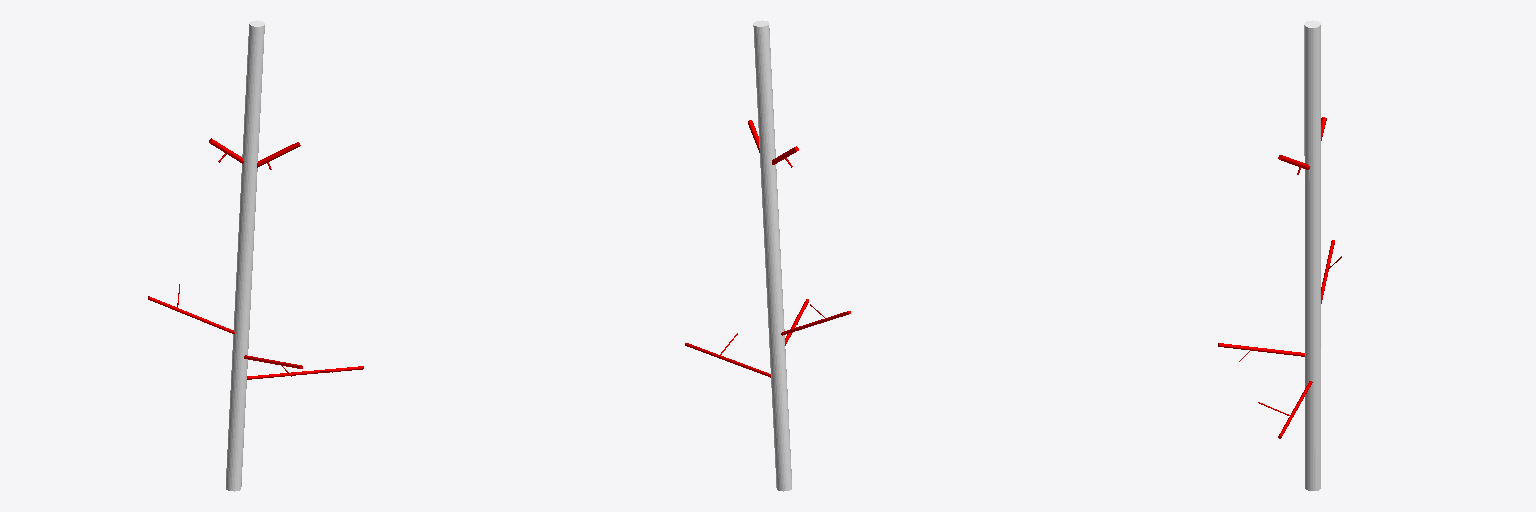
URDF robot description (tree_103.urdf):
<?xml version='1.0' encoding='UTF-8'?>
<robot name="tree_103.urdf">
  <link name="branch_0">
    <inertial>
      <origin xyz="0.0 0.0 0.0" rpy="0.0 -0.0 0.0"/>
      <mass value="0.1"/>
      <inertia ixx="0.001" ixy="0.0" ixz="0.0" iyy="0.001" iyz="0.0" izz="0.001"/>
    </inertial>
    <visual name="branch_0_visual">
      <geometry>
        <cylinder radius="0.14001834520138762" length="8.907185700105003"/>
      </geometry>
      <material name="branch_material"/>
      <origin xyz="0.23739383873505226 -0.003513189515895244 4.447259953821996" rpy="0.0 0.0533350129177233 -0.01479791174688418"/>
    </visual>
    <collision name="branch_0_collision">
      <geometry>
        <cylinder radius="0.14001834520138762" length="8.907185700105003"/>
      </geometry>
      <origin xyz="0.23739383873505226 -0.003513189515895244 4.447259953821996" rpy="0.0 0.0533350129177233 -0.01479791174688418"/>
    </collision>
  </link>
  <link name="branch_1">
    <inertial>
      <origin xyz="0.0 0.0 0.0" rpy="0.0 -0.0 0.0"/>
      <mass value="0.1"/>
      <inertia ixx="0.001" ixy="0.0" ixz="0.0" iyy="0.001" iyz="0.0" izz="0.001"/>
    </inertial>
    <visual name="branch_1_visual">
      <geometry>
        <cylinder radius="0.03007751160161051" length="2.2813024183523956"/>
      </geometry>
      <material name="semantic_material"/>
      <origin xyz="0.0 0.0 0.0" rpy="0.0 -0.0 0.0"/>
    </visual>
    <collision name="branch_1_collision">
      <geometry>
        <cylinder radius="0.03007751160161051" length="2.2813024183523956"/>
      </geometry>
      <origin xyz="0.0 0.0 0.0" rpy="0.0 -0.0 0.0"/>
    </collision>
  </link>
  <link name="branch_2">
    <inertial>
      <origin xyz="0.0 0.0 0.0" rpy="0.0 -0.0 0.0"/>
      <mass value="0.1"/>
      <inertia ixx="0.001" ixy="0.0" ixz="0.0" iyy="0.001" iyz="0.0" izz="0.001"/>
    </inertial>
    <visual name="branch_2_visual">
      <geometry>
        <cylinder radius="0.012026125777575237" length="0.6213884792145387"/>
      </geometry>
      <material name="semantic_material"/>
      <origin xyz="0.0 0.0 0.0" rpy="0.0 -0.0 0.0"/>
    </visual>
    <collision name="branch_2_collision">
      <geometry>
        <cylinder radius="0.012026125777575237" length="0.6213884792145387"/>
      </geometry>
      <origin xyz="0.0 0.0 0.0" rpy="0.0 -0.0 0.0"/>
    </collision>
  </link>
  <link name="branch_3">
    <inertial>
      <origin xyz="0.0 0.0 0.0" rpy="0.0 -0.0 0.0"/>
      <mass value="0.1"/>
      <inertia ixx="0.001" ixy="0.0" ixz="0.0" iyy="0.001" iyz="0.0" izz="0.001"/>
    </inertial>
    <visual name="branch_3_visual">
      <geometry>
        <cylinder radius="0.033401584085548976" length="1.6756570634763974"/>
      </geometry>
      <material name="semantic_material"/>
      <origin xyz="0.0 0.0 0.0" rpy="0.0 -0.0 0.0"/>
    </visual>
    <collision name="branch_3_collision">
      <geometry>
        <cylinder radius="0.033401584085548976" length="1.6756570634763974"/>
      </geometry>
      <origin xyz="0.0 0.0 0.0" rpy="0.0 -0.0 0.0"/>
    </collision>
  </link>
  <link name="branch_4">
    <inertial>
      <origin xyz="0.0 0.0 0.0" rpy="0.0 -0.0 0.0"/>
      <mass value="0.1"/>
      <inertia ixx="0.001" ixy="0.0" ixz="0.0" iyy="0.001" iyz="0.0" izz="0.001"/>
    </inertial>
    <visual name="branch_4_visual">
      <geometry>
        <cylinder radius="0.01" length="0.3169389031536103"/>
      </geometry>
      <material name="semantic_material"/>
      <origin xyz="0.0 0.0 0.0" rpy="0.0 -0.0 0.0"/>
    </visual>
    <collision name="branch_4_collision">
      <geometry>
        <cylinder radius="0.01" length="0.3169389031536103"/>
      </geometry>
      <origin xyz="0.0 0.0 0.0" rpy="0.0 -0.0 0.0"/>
    </collision>
  </link>
  <link name="branch_5">
    <inertial>
      <origin xyz="0.0 0.0 0.0" rpy="0.0 -0.0 0.0"/>
      <mass value="0.1"/>
      <inertia ixx="0.001" ixy="0.0" ixz="0.0" iyy="0.001" iyz="0.0" izz="0.001"/>
    </inertial>
    <visual name="branch_5_visual">
      <geometry>
        <cylinder radius="0.04609774386085205" length="0.9078740688726961"/>
      </geometry>
      <material name="semantic_material"/>
      <origin xyz="0.0 0.0 0.0" rpy="0.0 -0.0 0.0"/>
    </visual>
    <collision name="branch_5_collision">
      <geometry>
        <cylinder radius="0.04609774386085205" length="0.9078740688726961"/>
      </geometry>
      <origin xyz="0.0 0.0 0.0" rpy="0.0 -0.0 0.0"/>
    </collision>
  </link>
  <link name="branch_6">
    <inertial>
      <origin xyz="0.0 0.0 0.0" rpy="0.0 -0.0 0.0"/>
      <mass value="0.1"/>
      <inertia ixx="0.001" ixy="0.0" ixz="0.0" iyy="0.001" iyz="0.0" izz="0.001"/>
    </inertial>
    <visual name="branch_6_visual">
      <geometry>
        <cylinder radius="0.016479714842631322" length="0.24481043577722586"/>
      </geometry>
      <material name="semantic_material"/>
      <origin xyz="0.0 0.0 0.0" rpy="0.0 -0.0 0.0"/>
    </visual>
    <collision name="branch_6_collision">
      <geometry>
        <cylinder radius="0.016479714842631322" length="0.24481043577722586"/>
      </geometry>
      <origin xyz="0.0 0.0 0.0" rpy="0.0 -0.0 0.0"/>
    </collision>
  </link>
  <link name="branch_7">
    <inertial>
      <origin xyz="0.0 0.0 0.0" rpy="0.0 -0.0 0.0"/>
      <mass value="0.1"/>
      <inertia ixx="0.001" ixy="0.0" ixz="0.0" iyy="0.001" iyz="0.0" izz="0.001"/>
    </inertial>
    <visual name="branch_7_visual">
      <geometry>
        <cylinder radius="0.03128637421662179" length="1.9756308622006014"/>
      </geometry>
      <material name="semantic_material"/>
      <origin xyz="0.0 0.0 0.0" rpy="0.0 -0.0 0.0"/>
    </visual>
    <collision name="branch_7_collision">
      <geometry>
        <cylinder radius="0.03128637421662179" length="1.9756308622006014"/>
      </geometry>
      <origin xyz="0.0 0.0 0.0" rpy="0.0 -0.0 0.0"/>
    </collision>
  </link>
  <link name="branch_8">
    <inertial>
      <origin xyz="0.0 0.0 0.0" rpy="0.0 -0.0 0.0"/>
      <mass value="0.1"/>
      <inertia ixx="0.001" ixy="0.0" ixz="0.0" iyy="0.001" iyz="0.0" izz="0.001"/>
    </inertial>
    <visual name="branch_8_visual">
      <geometry>
        <cylinder radius="0.01" length="0.46630665916176595"/>
      </geometry>
      <material name="semantic_material"/>
      <origin xyz="0.0 0.0 0.0" rpy="0.0 -0.0 0.0"/>
    </visual>
    <collision name="branch_8_collision">
      <geometry>
        <cylinder radius="0.01" length="0.46630665916176595"/>
      </geometry>
      <origin xyz="0.0 0.0 0.0" rpy="0.0 -0.0 0.0"/>
    </collision>
  </link>
  <link name="branch_9">
    <inertial>
      <origin xyz="0.0 0.0 0.0" rpy="0.0 -0.0 0.0"/>
      <mass value="0.1"/>
      <inertia ixx="0.001" ixy="0.0" ixz="0.0" iyy="0.001" iyz="0.0" izz="0.001"/>
    </inertial>
    <visual name="branch_9_visual">
      <geometry>
        <cylinder radius="0.046190937019513476" length="1.029777607474816"/>
      </geometry>
      <material name="semantic_material"/>
      <origin xyz="0.0 0.0 0.0" rpy="0.0 -0.0 0.0"/>
    </visual>
    <collision name="branch_9_collision">
      <geometry>
        <cylinder radius="0.046190937019513476" length="1.029777607474816"/>
      </geometry>
      <origin xyz="0.0 0.0 0.0" rpy="0.0 -0.0 0.0"/>
    </collision>
  </link>
  <link name="branch_10">
    <inertial>
      <origin xyz="0.0 0.0 0.0" rpy="0.0 -0.0 0.0"/>
      <mass value="0.1"/>
      <inertia ixx="0.001" ixy="0.0" ixz="0.0" iyy="0.001" iyz="0.0" izz="0.001"/>
    </inertial>
    <visual name="branch_10_visual">
      <geometry>
        <cylinder radius="0.016508980389882275" length="0.188219457079702"/>
      </geometry>
      <material name="semantic_material"/>
      <origin xyz="0.0 0.0 0.0" rpy="0.0 -0.0 0.0"/>
    </visual>
    <collision name="branch_10_collision">
      <geometry>
        <cylinder radius="0.016508980389882275" length="0.188219457079702"/>
      </geometry>
      <origin xyz="0.0 0.0 0.0" rpy="0.0 -0.0 0.0"/>
    </collision>
  </link>
  <joint name="joint_0_1" type="fixed">
    <parent link="branch_0"/>
    <child link="branch_1"/>
    <axis xyz="1. 0. 0."/>
    <origin xyz="1.2166866435556714 -0.28282720977204184 2.059044443751614" rpy="-2.7617327242743777 1.537407121887721 -3.010732142827212"/>
  </joint>
  <joint name="joint_0_3" type="fixed">
    <parent link="branch_0"/>
    <child link="branch_3"/>
    <axis xyz="1. 0. 0."/>
    <origin xyz="0.29618997760367205 -0.8046866357443023 2.708114712911205" rpy="-0.241074436098712 1.350228587884495 -1.619509948509373"/>
  </joint>
  <joint name="joint_0_5" type="fixed">
    <parent link="branch_0"/>
    <child link="branch_5"/>
    <axis xyz="1. 0. 0."/>
    <origin xyz="-0.014386306946856728 0.09233314738976937 6.462988393475795" rpy="0.021467279132699316 0.908196796817354 2.893753126488003"/>
  </joint>
  <joint name="joint_0_7" type="fixed">
    <parent link="branch_0"/>
    <child link="branch_7"/>
    <axis xyz="1. 0. 0."/>
    <origin xyz="-0.6834163291466931 0.17139111213817093 3.415530577791944" rpy="0.019622390212427555 1.0508488993446465 2.9601808806672705"/>
  </joint>
  <joint name="joint_0_9" type="fixed">
    <parent link="branch_0"/>
    <child link="branch_9"/>
    <axis xyz="1. 0. 0."/>
    <origin xyz="0.672202325292069 -0.2765620877157165 6.386185798676129" rpy="-0.06370996059606845 1.0221182209738804 -0.7409139863043117"/>
  </joint>
  <joint name="joint_1_2" type="fixed">
    <parent link="branch_0"/>
    <child link="branch_2"/>
    <axis xyz="1. 0. 0."/>
    <origin xyz="1.5104999331974562 -0.6499745374291777 2.16885952725417" rpy="-1.1724352770361754 -0.08004959423453033 3.0079264680123026"/>
  </joint>
  <joint name="joint_3_4" type="fixed">
    <parent link="branch_0"/>
    <child link="branch_4"/>
    <axis xyz="1. 0. 0."/>
    <origin xyz="0.3990839469157331 -1.1448942464766876 2.662788223537546" rpy="2.7258512297269846 0.8487179144872116 1.509247026172286"/>
  </joint>
  <joint name="joint_5_6" type="fixed">
    <parent link="branch_0"/>
    <child link="branch_6"/>
    <axis xyz="1. 0. 0."/>
    <origin xyz="-0.14030559519651886 0.1109149995801444 6.409098753735793" rpy="2.988732517787383 0.7995634027535998 -0.3017417390531248"/>
  </joint>
  <joint name="joint_7_8" type="fixed">
    <parent link="branch_0"/>
    <child link="branch_8"/>
    <axis xyz="1. 0. 0."/>
    <origin xyz="-0.9022733024060396 0.36182069542131295 3.771204954897157" rpy="-0.6264107375293974 0.43247728165932 -0.13038717286742293"/>
  </joint>
  <joint name="joint_9_10" type="fixed">
    <parent link="branch_0"/>
    <child link="branch_10"/>
    <axis xyz="1. 0. 0."/>
    <origin xyz="0.5879638578506236 -0.22829950284256534 6.220342705571306" rpy="-3.001271311680752 0.37563864851985346 2.4470066105949893"/>
  </joint>
  <material name="branch_material">
    <color rgba="1. 1. 1. 1."/>
  </material>
  <material name="semantic_material">
    <color rgba="1. 0. 0. 1."/>
  </material>
</robot>

--- What the picture shows (computed from the rendered views, not written in the file) ---
3 views of the same robot in one strip: view 1: azimuth 30°, elevation 25°; view 2: azimuth 150°, elevation 25°; view 3: azimuth 270°, elevation 25° (orthographic).
Robot: tree_103.urdf — 11 links, 10 joints (10 fixed); root link branch_0; default pose: all joints at 0.
Links seen in each view (by area): view 1: branch_0; view 2: branch_0; view 3: branch_0.
Link boxes in pixels (left/top/right/bottom): branch_0: left=226, top=20, right=264, bottom=491; branch_0: left=753, top=20, right=791, bottom=491; branch_0: left=1304, top=20, right=1320, bottom=490.
Size in the robot's own frame: 3.87 by 2.11 by 8.91 metres.
Geometry: primitives only (box / cylinder / sphere), no mesh files.
